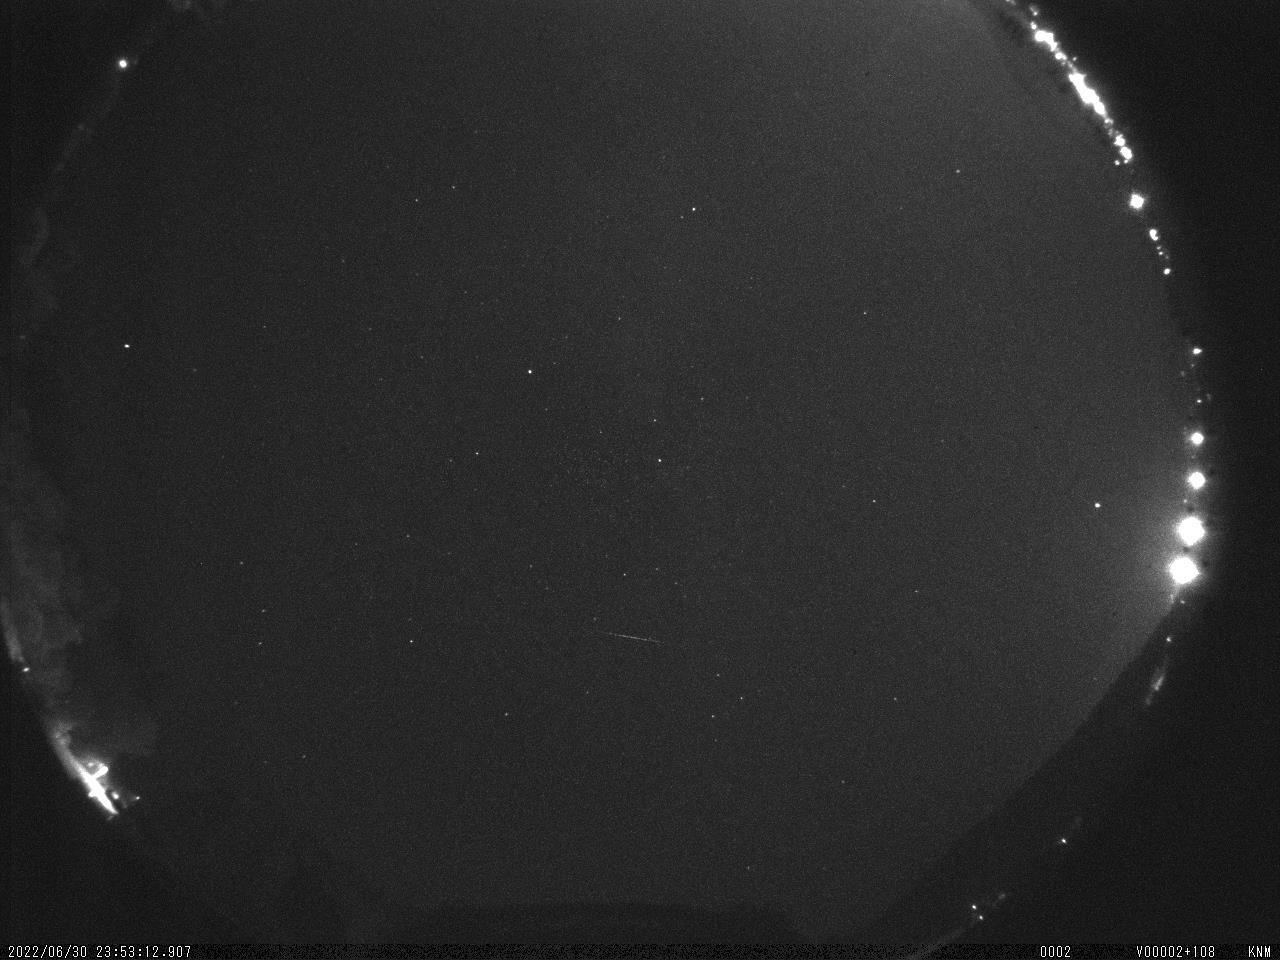Meteor: (595, 625, 668, 649)
